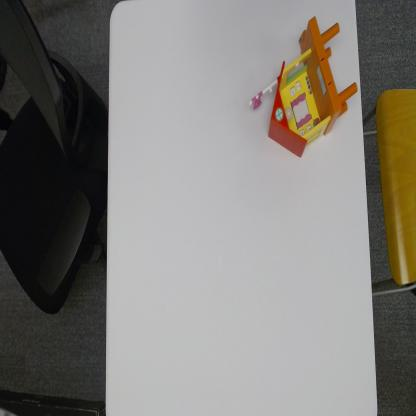House: (251, 14, 358, 165)
